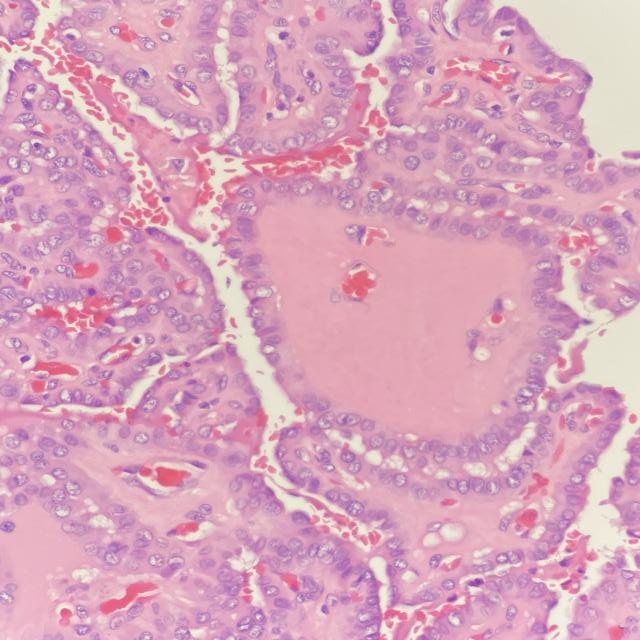TC: (284, 163, 321, 210), (512, 350, 563, 372), (307, 408, 343, 436), (466, 434, 502, 461), (420, 513, 451, 544), (309, 538, 339, 570), (339, 497, 372, 523), (230, 178, 259, 207), (361, 428, 391, 456), (496, 602, 527, 629), (531, 252, 565, 276), (471, 150, 500, 178), (363, 138, 393, 165), (242, 281, 280, 301), (502, 544, 528, 572), (479, 475, 504, 504), (525, 228, 555, 252), (386, 467, 414, 492), (474, 216, 496, 247), (397, 152, 425, 176), (451, 181, 475, 207), (334, 193, 358, 219), (531, 323, 565, 341), (504, 470, 524, 498), (342, 456, 367, 476), (389, 553, 414, 573), (522, 380, 551, 396), (437, 575, 463, 592)
